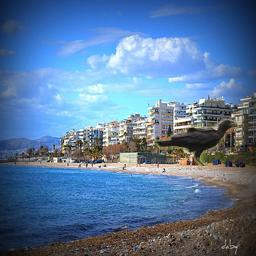Crow: (154, 119, 239, 166)
